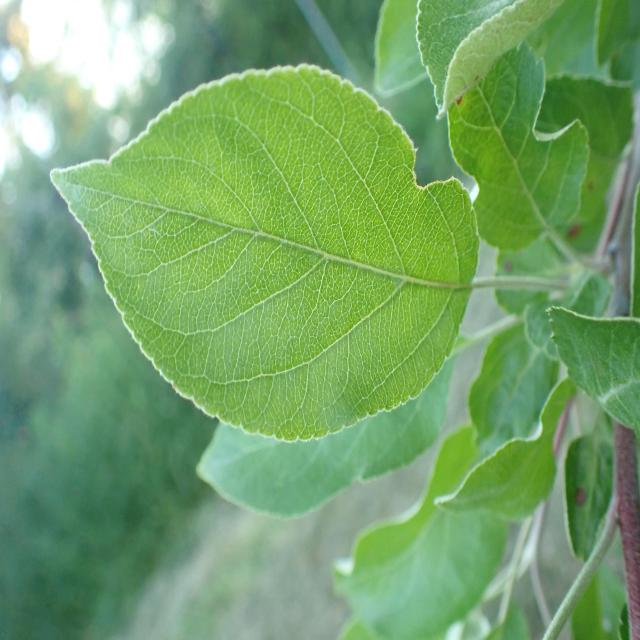healthy: (49, 63, 480, 444), (195, 334, 458, 520), (332, 422, 509, 640), (448, 41, 590, 252), (432, 377, 576, 521), (415, 0, 565, 120), (545, 303, 640, 436)
